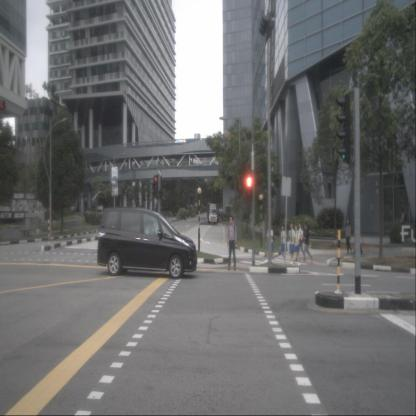human-pedestrian-adult: (227, 216, 237, 272), (300, 222, 312, 264), (294, 222, 306, 262), (292, 224, 301, 268), (288, 223, 296, 263), (280, 224, 288, 263), (267, 224, 274, 260), (346, 218, 352, 255), (400, 207, 406, 239)
vehicle-car: (97, 207, 198, 279)
vehicle-truck: (208, 203, 218, 224)
